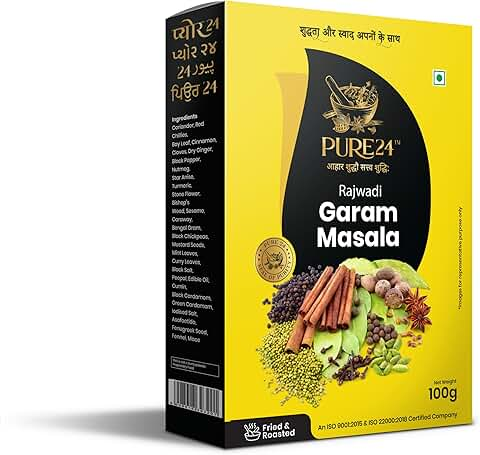Garamasala: (169, 12, 480, 455)
